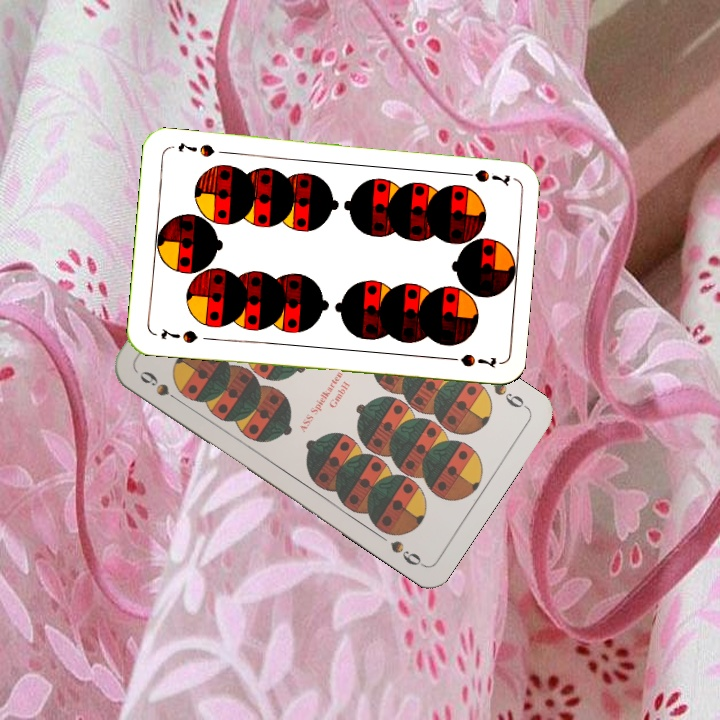S7: (456, 165, 513, 188), (157, 324, 200, 346)
S9: (135, 366, 186, 407), (489, 378, 531, 412)
